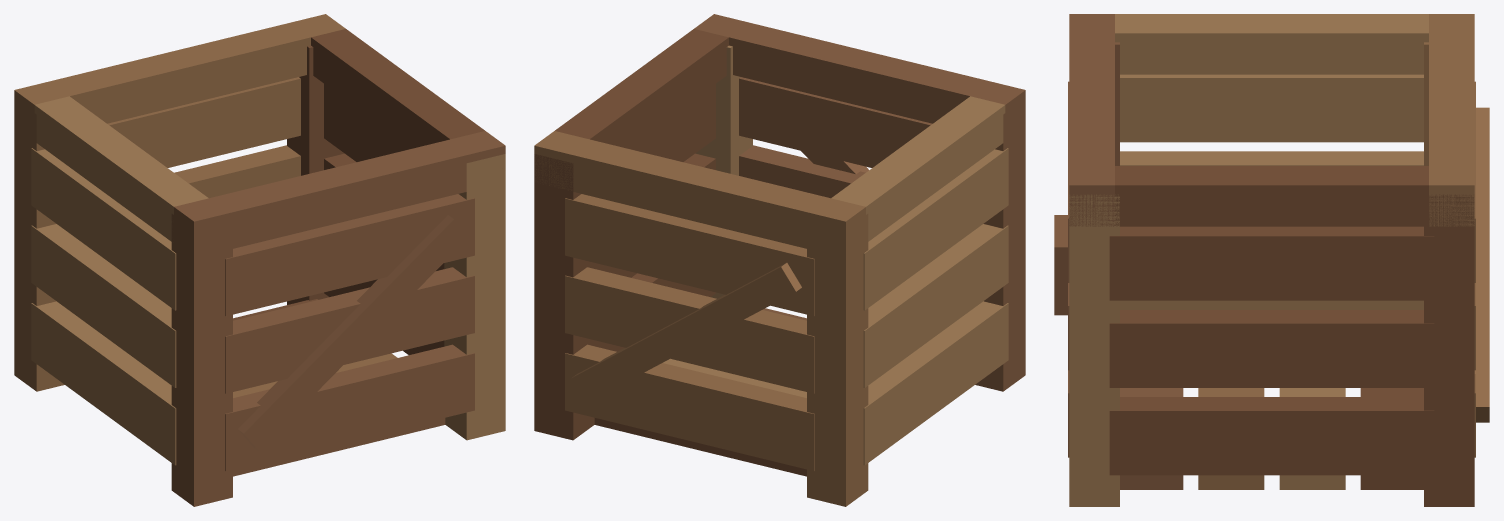
The model's file is sv_prop_crate.glb.
3 views of the same model, side by side, from view 1: azimuth 30°, elevation 25°; view 2: azimuth 150°, elevation 25°; view 3: azimuth 270°, elevation 25° (orthographic). The views are drawn at different scales.
Parts seen in each view (by area): view 1: sv_prop_crate; view 2: sv_prop_crate; view 3: sv_prop_crate.
Part boxes in pixels (<box>): sv_prop_crate: <box>14,14,505,506</box>; sv_prop_crate: <box>534,14,1025,506</box>; sv_prop_crate: <box>1054,14,1489,506</box>.
Size of the model in its own units: 0.805 by 0.7 by 0.859.
